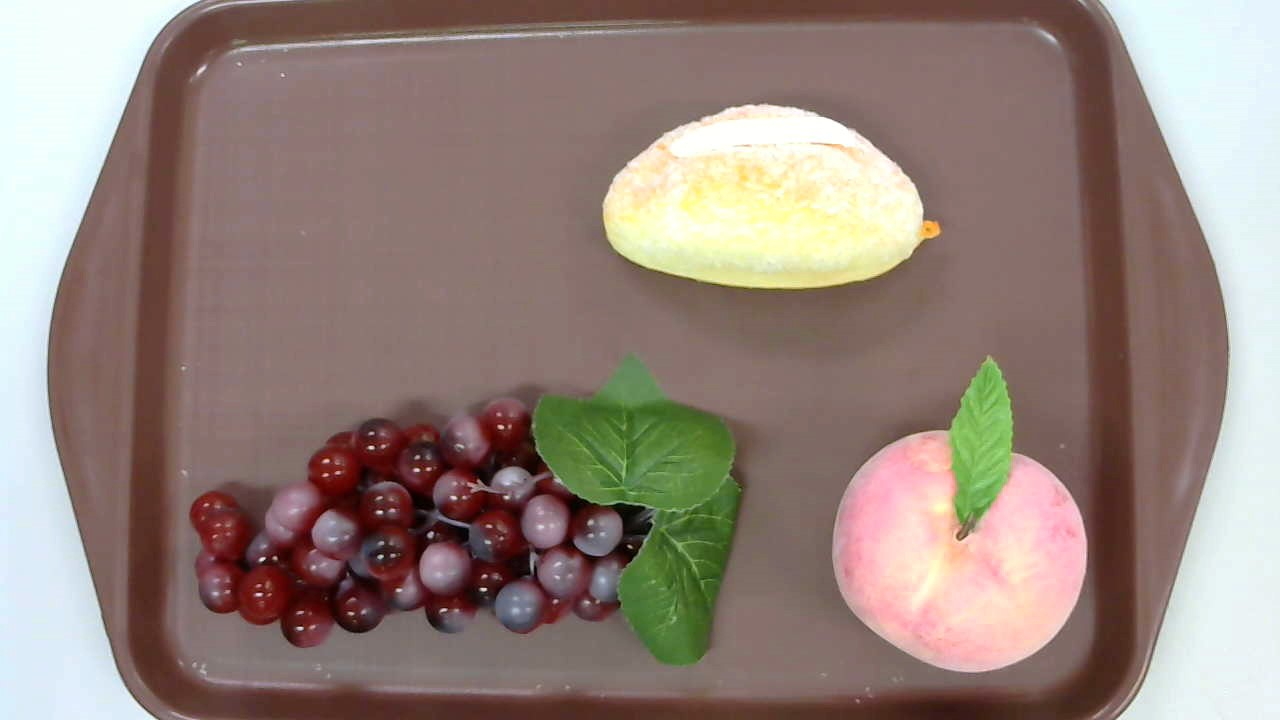coconut: (602, 103, 943, 291)
grape: (189, 354, 741, 666)
peach: (831, 355, 1088, 672)
